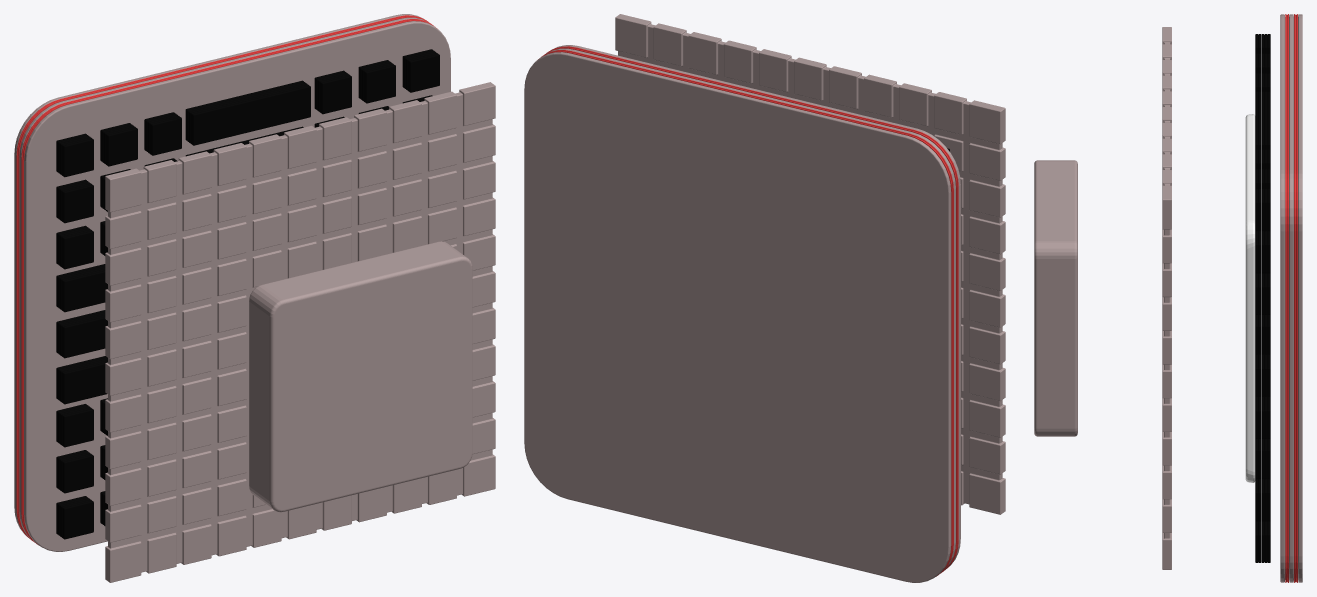
File: arm2-p.glb
3 renders of one model, left to right at view 1: azimuth 30°, elevation 25°; view 2: azimuth 150°, elevation 25°; view 3: azimuth 270°, elevation 25°, orthographic. The views are drawn at different scales.
Visible parts, largest first — view 1: Node11, Node3, Node12, Node10, Node13, Node6, Node8, Node7, Node9; view 2: Node12, Node11, Node13; view 3: Node3, Node12, Node11, Node13, Node4, Node6, Node7, Node8, Node9, Node10.
Part boxes in pixels (x1,y1,x2,y2): Node11: (105,82,495,582); Node3: (249,241,472,512); Node12: (14,14,450,551); Node10: (63,54,439,539); Node13: (16,15,437,545); Node6: (56,49,432,534); Node8: (59,51,436,536); Node7: (58,50,434,535); Node9: (61,53,437,537); Node12: (524,45,960,582); Node11: (615,14,1005,514); Node13: (538,46,958,576); Node3: (1034,160,1077,436); Node12: (1280,14,1302,582); Node11: (1162,27,1171,569); Node13: (1285,14,1297,582); Node4: (1245,114,1255,482); Node6: (1267,34,1270,562); Node7: (1264,34,1267,562); Node8: (1261,34,1264,562); Node9: (1258,34,1261,562); Node10: (1255,34,1258,562).
Size of the model in its own units: 131 by 131 by 77.72.
